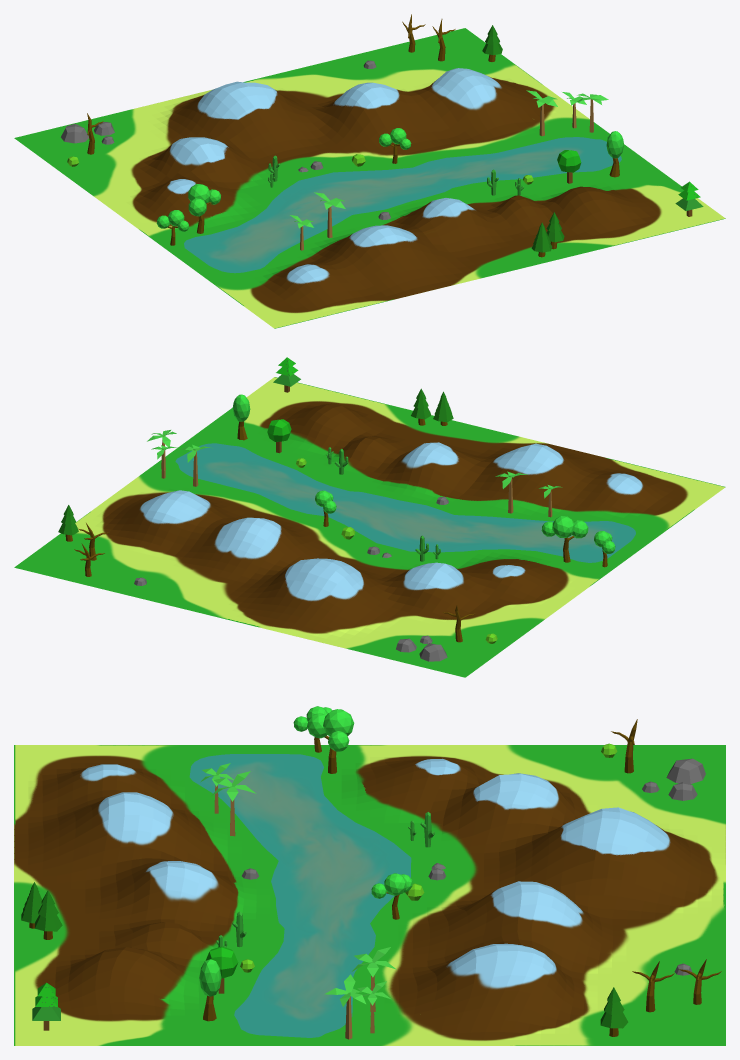
Rendered from landscape.glb.
3 renders of one model, top to bottom at view 1: azimuth 30°, elevation 25°; view 2: azimuth 150°, elevation 25°; view 3: azimuth 270°, elevation 25°, orthographic. The views are drawn at different scales.
Parts seen in each view (by area): view 1: Grid, Plane, Icosphere.002, Spruce, Tree; view 2: Grid, Plane, Icosphere.002, Tree; view 3: Grid, Plane, Icosphere.002, Spruce, Cube.005, Palm.004, Cone.001, Tree, Icosphere.004, Cone.002, Icosphere.001, Palm (+1 smaller).
Boxes of the visible parts, box(x1,y1,x2,y2) form: Grid: box(14, 28, 725, 328); Plane: box(184, 137, 621, 272); Icosphere.002: box(188, 184, 220, 216); Spruce: box(675, 181, 703, 216); Tree: box(557, 150, 581, 183); Grid: box(14, 377, 725, 677); Plane: box(175, 443, 635, 562); Icosphere.002: box(541, 516, 588, 538); Tree: box(267, 419, 291, 453); Grid: box(14, 745, 725, 1045); Plane: box(189, 754, 411, 1037); Icosphere.002: box(307, 709, 354, 751); Spruce: box(32, 982, 60, 1030); Cube.005: box(666, 758, 705, 783); Palm.004: box(324, 974, 365, 1039); Cone.001: box(600, 987, 628, 1028); Tree: box(205, 946, 238, 993); Icosphere.004: box(371, 873, 412, 898); Cone.002: box(35, 890, 62, 931); Icosphere.001: box(199, 959, 221, 996); Palm: box(211, 771, 256, 836).
Size of the model in its own units: 50.71 by 5.35 by 50.
Materials: 11 (6 with a texture image).
